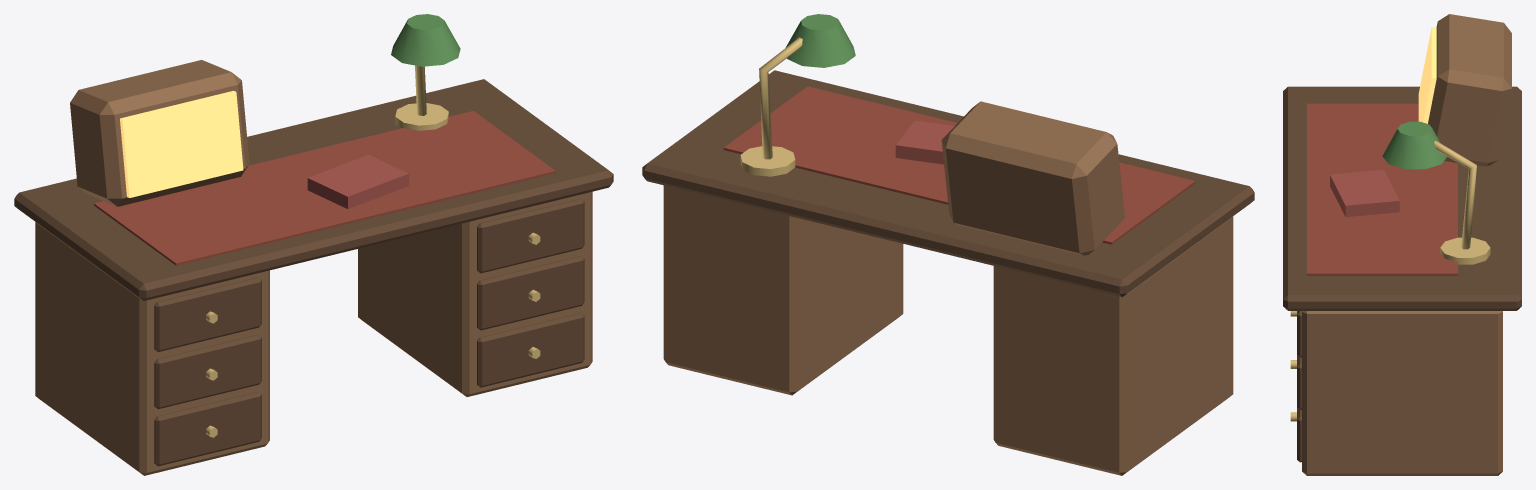
File: hm_desk.glb
3 views of the same model, side by side, from view 1: azimuth 30°, elevation 25°; view 2: azimuth 150°, elevation 25°; view 3: azimuth 270°, elevation 25° (orthographic). The views are drawn at different scales.
Parts seen in each view (by area): view 1: hm_desk; view 2: hm_desk; view 3: hm_desk.
Part boxes in pixels (bbox=[...]): hm_desk: bbox=[14, 14, 613, 475]; hm_desk: bbox=[642, 14, 1254, 475]; hm_desk: bbox=[1283, 14, 1521, 475].
Bounding box in the file's own units: 2 × 1.32 × 0.95.
